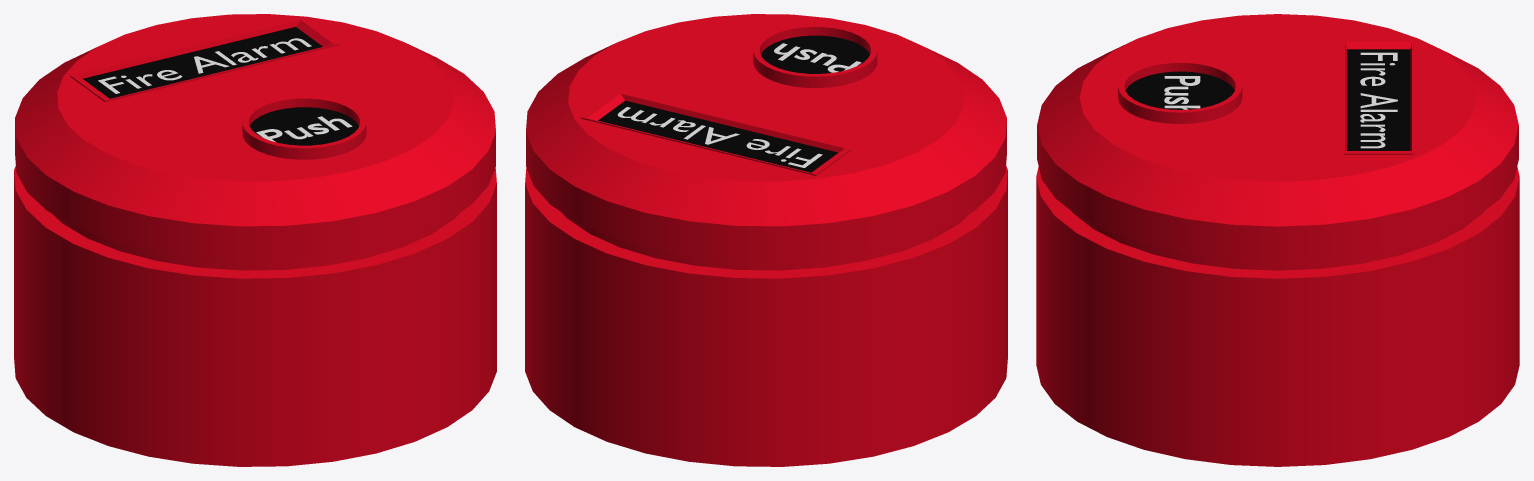
Rendered from Push Button Hydrant.fbx.
3 views of the same model, side by side, from view 1: azimuth 30°, elevation 25°; view 2: azimuth 150°, elevation 25°; view 3: azimuth 270°, elevation 25° (orthographic).
Parts seen in each view (by area): view 1: Circle.002, Circle.006, Circle.003, Circle.005, Circle.004, Text.001, Text; view 2: Circle.002, Circle.006, Circle.003, Circle.005, Circle.004, Text.001, Text; view 3: Circle.002, Circle.006, Circle.003, Circle.004, Circle.005, Text.001, Text.
Part boxes in pixels (<box>): Circle.002: <box>14,14,496,466</box>; Circle.006: <box>83,27,322,98</box>; Circle.003: <box>242,96,366,159</box>; Circle.005: <box>70,18,339,102</box>; Circle.004: <box>250,107,358,145</box>; Text.001: <box>98,38,311,93</box>; Text: <box>256,116,352,141</box>; Circle.002: <box>525,14,1007,466</box>; Circle.006: <box>598,100,837,172</box>; Circle.003: <box>753,24,877,87</box>; Circle.005: <box>581,92,850,175</box>; Circle.004: <box>761,35,869,73</box>; Text.001: <box>617,107,822,167</box>; Text: <box>774,43,861,72</box>; Circle.002: <box>1036,14,1519,466</box>; Circle.006: <box>1347,49,1410,150</box>; Circle.003: <box>1118,60,1242,123</box>; Circle.004: <box>1125,71,1234,109</box>; Circle.005: <box>1344,39,1413,154</box>; Text.001: <box>1360,52,1397,148</box>; Text: <box>1164,76,1200,109</box>.
Bounding box in the file's own units: 63.53 × 40.37 × 63.53.
